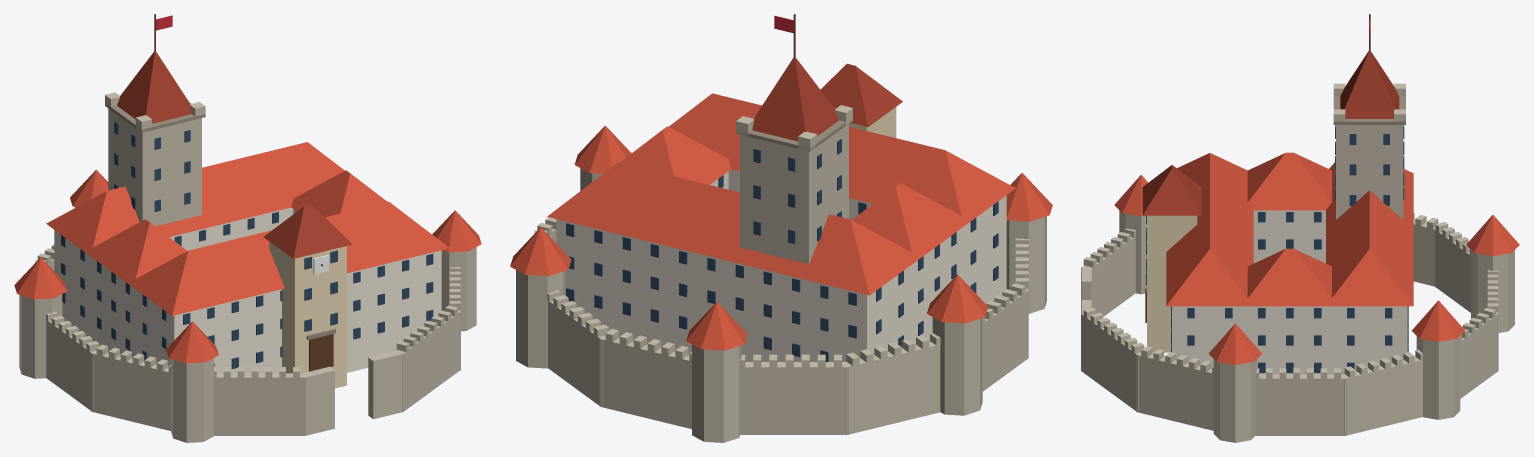
File: castle.glb
The picture shows the model from 3 angles, left to right: view 1: azimuth 30°, elevation 25°; view 2: azimuth 150°, elevation 25°; view 3: azimuth 270°, elevation 25°; orthographic projection. The views are drawn at different scales.
Parts seen in each view (by area): view 1: Castle; view 2: Castle; view 3: Castle.
Part boxes in pixels (left/top/right/bottom): Castle: left=14, top=14, right=481, bottom=442; Castle: left=510, top=14, right=1052, bottom=442; Castle: left=1081, top=14, right=1519, bottom=442.
Size of the model in its own units: 54.7 by 40.5 by 52.17.
